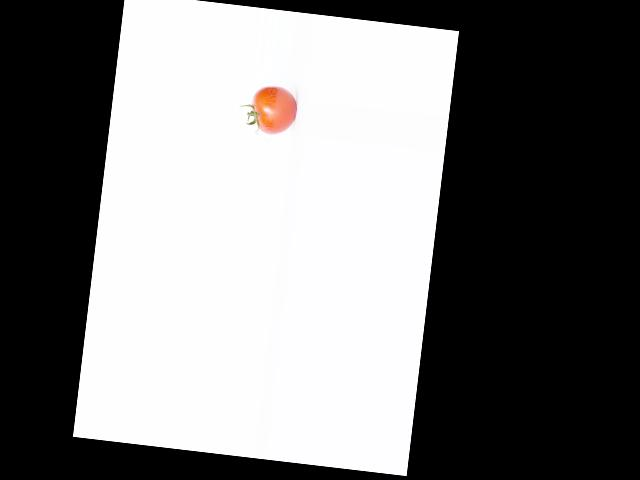tomato: (248, 83, 298, 136)
